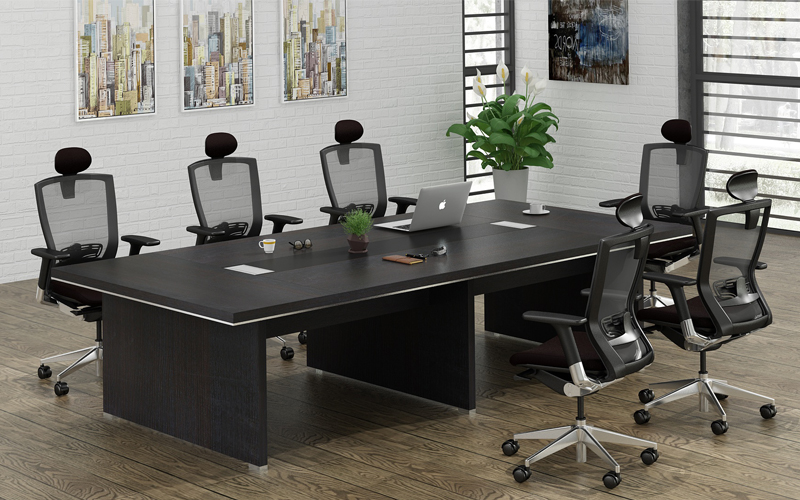conference_table: (51, 195, 696, 476)
